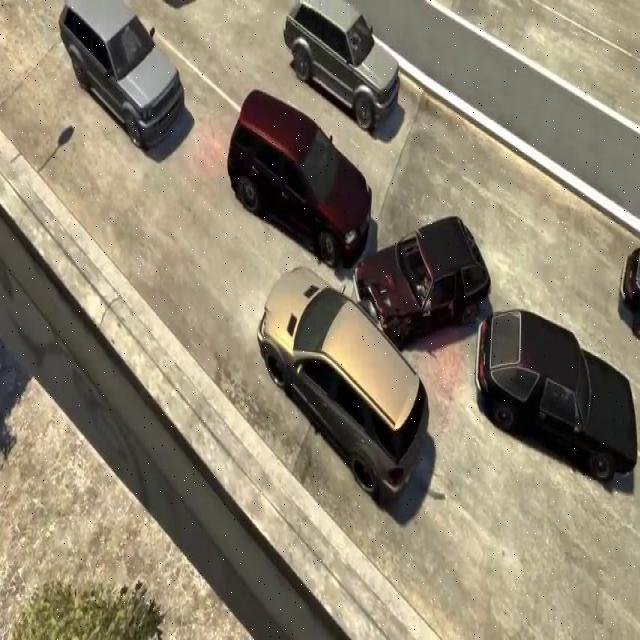moderate: (254, 209, 495, 507)
